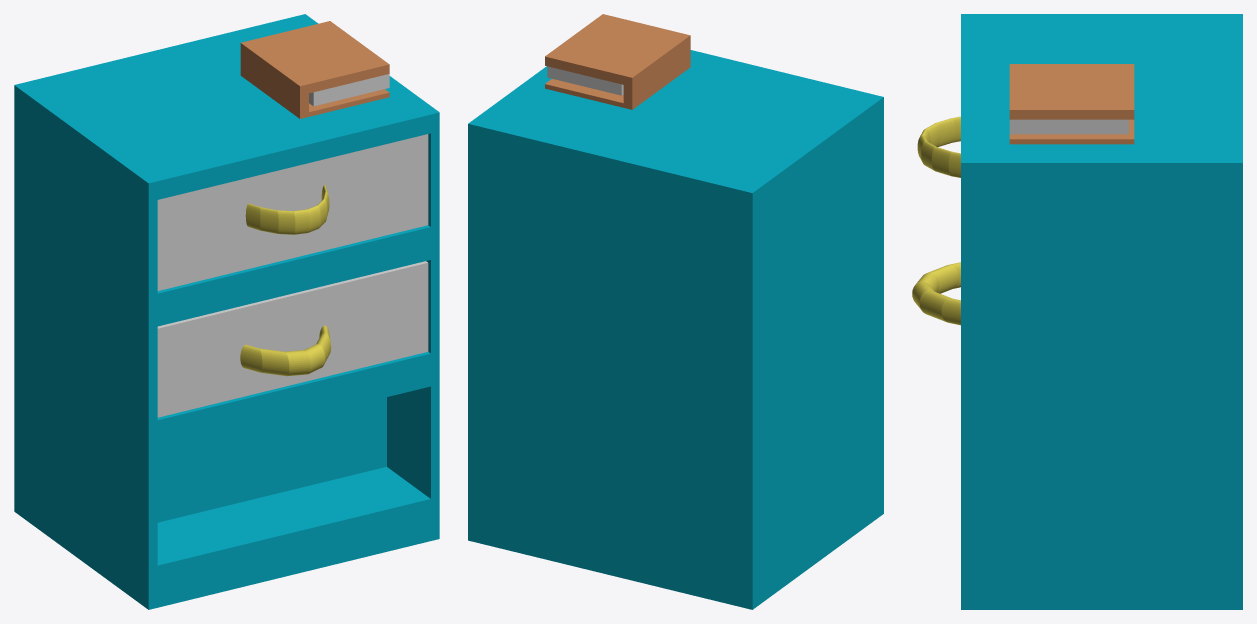
The model's file is Side Table.glb.
3 renders of one model, left to right at view 1: azimuth 30°, elevation 25°; view 2: azimuth 150°, elevation 25°; view 3: azimuth 270°, elevation 25°, orthographic. The views are drawn at different scales.
Parts seen in each view (by area): view 1: Mesh_Mesh_head_geo.001_lambert2SG.001; view 2: Mesh_Mesh_head_geo.001_lambert2SG.001; view 3: Mesh_Mesh_head_geo.001_lambert2SG.001.
Part boxes in pixels (x1,y1,x2,y2): Mesh_Mesh_head_geo.001_lambert2SG.001: (14,14,439,609); Mesh_Mesh_head_geo.001_lambert2SG.001: (468,14,883,609); Mesh_Mesh_head_geo.001_lambert2SG.001: (912,14,1242,609).
Bounding box in the file's own units: 65 × 99 × 61.
